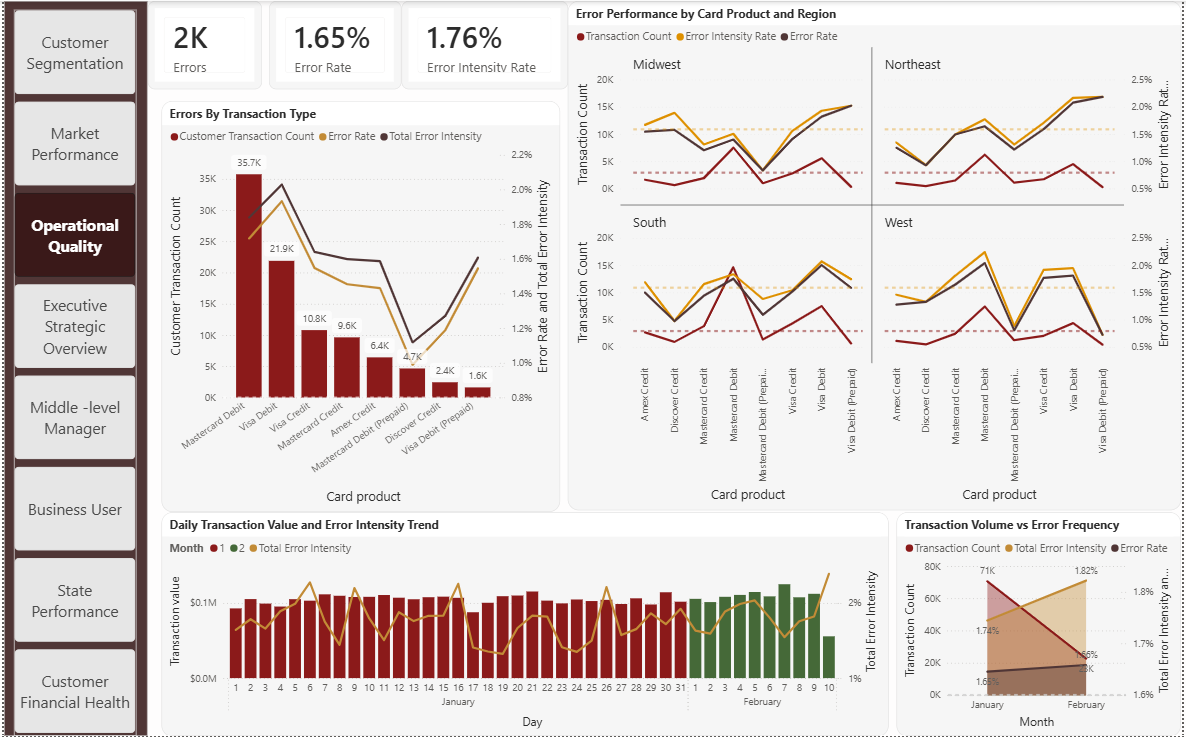

The dashboard page shown, as its layout file describes it:
{"tool":"powerbi","page":{"name":"Operational Quality","canvas":[1600,1000],"ordinal":2},"visuals":[{"type":"areaChart","title":"Transaction Volume vs Error Frequency","fields":{"Y2":["Transactions.Total Error Intensity","Transactions.Error Rate"],"Y":["Transactions.Total_Number_of_Transaction"],"Category":["Transactions.Date.Variation.Date Hierarchy.Month"]},"box":[1213.3,695,386.7,305],"z":0},{"type":"lineStackedColumnComboChart","title":"Errors By Transaction Type","fields":{"Y2":["Cards.Error Rate","Transactions.Total Error Intensity"],"Y":["Customers.Customer Transaction Count"],"Category":["Cards.Card product"]},"box":[213.3,136.7,541.7,558.3],"z":1000},{"type":"cardVisual","fields":{"Data":["Cards.Error Rate"]},"box":[360,0,180,120],"z":2000},{"type":"cardVisual","fields":{"Data":["Sum(Transactions.Num_of_Errors)"]},"box":[195,0,155,120],"z":3000},{"type":"cardVisual","fields":{"Data":["Transactions.Total Error Intensity"]},"box":[540,0,226.7,120],"z":4000},{"type":"lineStackedColumnComboChart","title":"Daily Transaction Value and Error Intensity Trend","fields":{"Category":["Transactions.Date.Variation.Date Hierarchy.Month","Transactions.Date.Variation.Date Hierarchy.Day"],"Series":["Transactions.Month"],"Y":["Transactions.Gross Transaction Value (GTV)"],"Y2":["Transactions.Total Error Intensity"]},"box":[213.3,695,988.3,305],"z":5000},{"type":"textbox","box":[0,0,195,1000],"z":6000},{"type":"pageNavigator","box":[13.3,11.7,166.7,988.3],"z":7000},{"type":"lineChart","title":"Error Performance by Card Product and Region","fields":{"Rows":["Transactions.US region"],"Y":["Transactions.Total_Number_of_Transaction"],"Y2":["Transactions.Total Error Intensity","Transactions.Error Rate"],"Category":["Cards.Card product"]},"box":[766.7,0,833.3,691.7],"z":8000}]}

Visuals, with their boxes on the page's 1600x1000 design canvas (x1, y1, x2, y2). These are canvas units, not pixel positions in the 1186x737 screenshot, which may show the page scaled, cropped or inside an application window:
"Transaction Volume vs Error Frequency" areaChart: (left=1213, top=695, right=1600, bottom=1000)
"Errors By Transaction Type" lineStackedColumnComboChart: (left=213, top=137, right=755, bottom=695)
cardVisual - Cards.Error Rate: (left=360, top=0, right=540, bottom=120)
cardVisual - Sum(Transactions.Num_of_Errors): (left=195, top=0, right=350, bottom=120)
cardVisual - Transactions.Total Error Intensity: (left=540, top=0, right=767, bottom=120)
"Daily Transaction Value and Error Intensity Trend" lineStackedColumnComboChart: (left=213, top=695, right=1202, bottom=1000)
textbox: (left=0, top=0, right=195, bottom=1000)
pageNavigator: (left=13, top=12, right=180, bottom=1000)
"Error Performance by Card Product and Region" lineChart: (left=767, top=0, right=1600, bottom=692)
